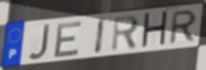E: (52, 19, 84, 59)
H: (140, 9, 170, 51)
I: (93, 16, 107, 55)
J: (27, 22, 52, 61)
R: (167, 9, 199, 47), (110, 14, 141, 53)
